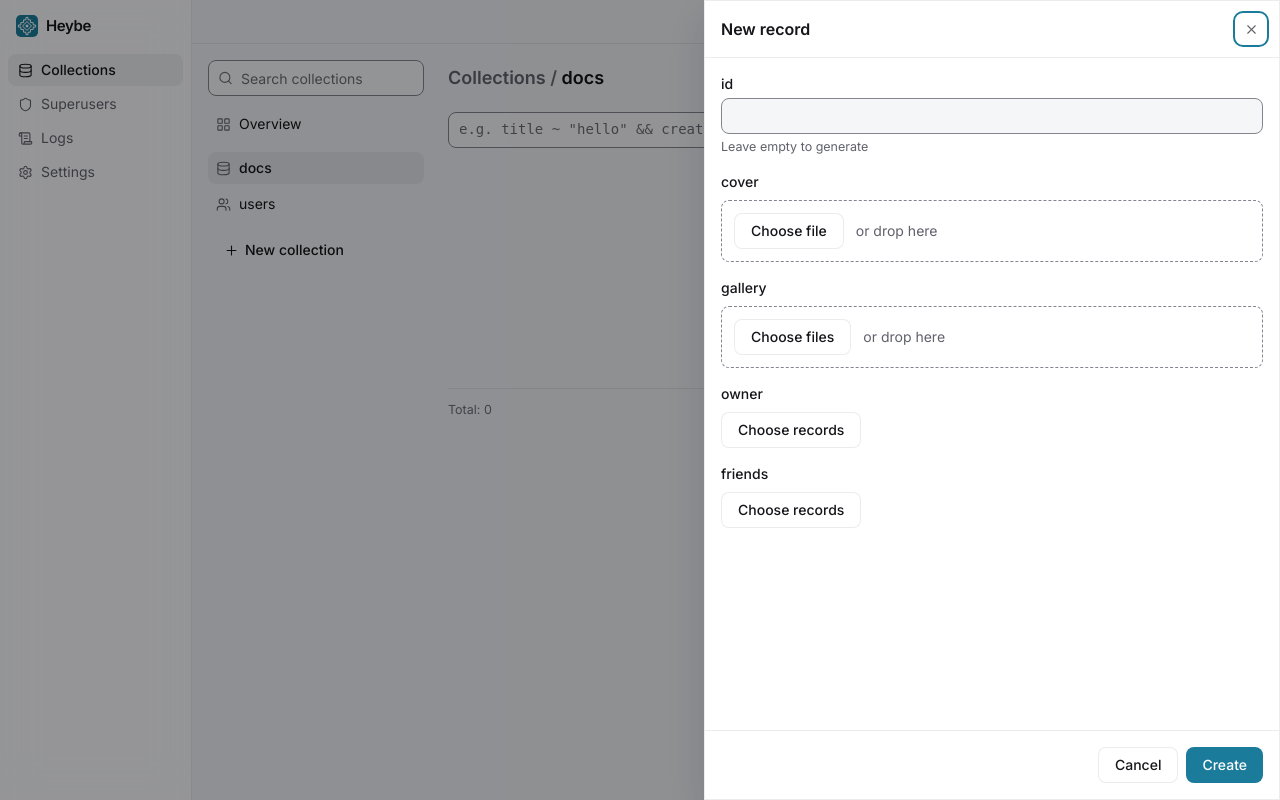
Test: the picker says when the target collection has no records
What coordinates should you click on to do the following:
click the button "Choose records" below "owner"
I would click on:
 (791, 430)
Its box is [721,412,861,448].
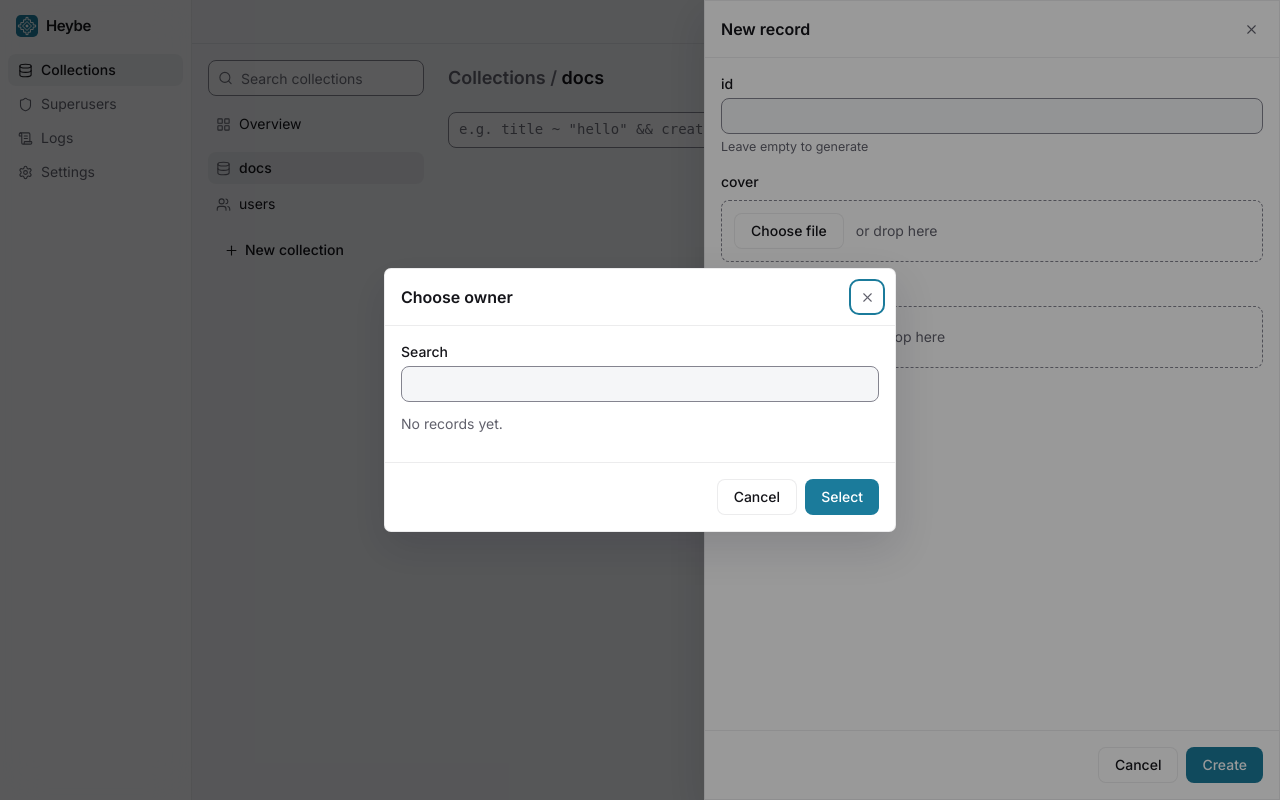
Expected: the text "No records yet." is shown, [401,415,503,432]
